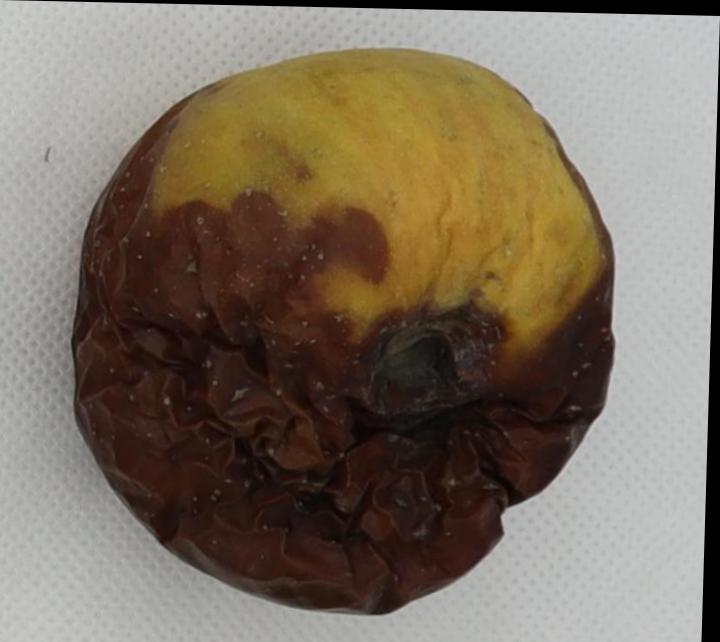apple: (73, 50, 613, 615)
rot_mold_decay: (73, 95, 613, 613)
